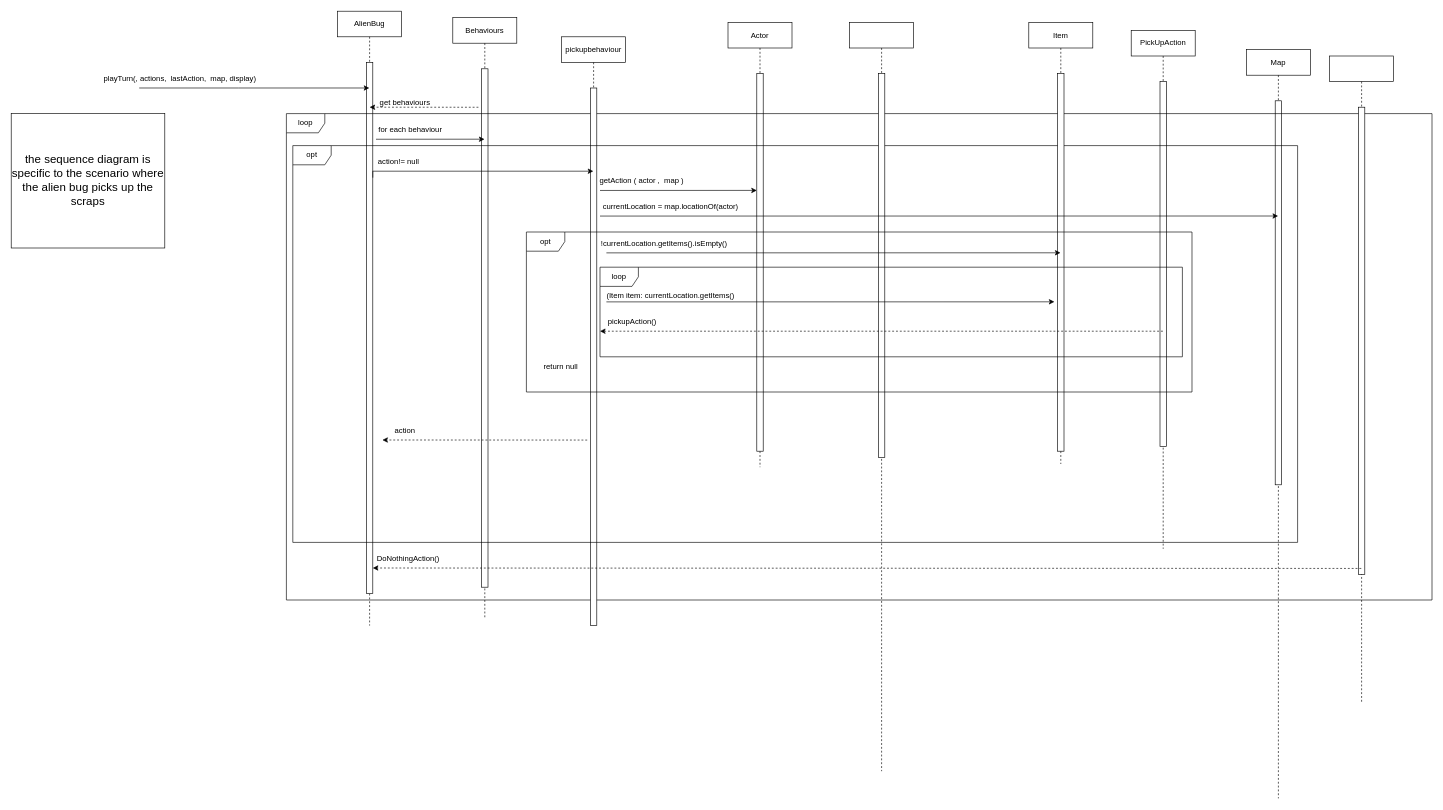
Image size: 1443x810. Some labels were removed from this diagram. Each missing label, with the box of its shape:
DoNothingAction: (1329, 55, 1394, 702)
Location: (849, 22, 914, 771)
